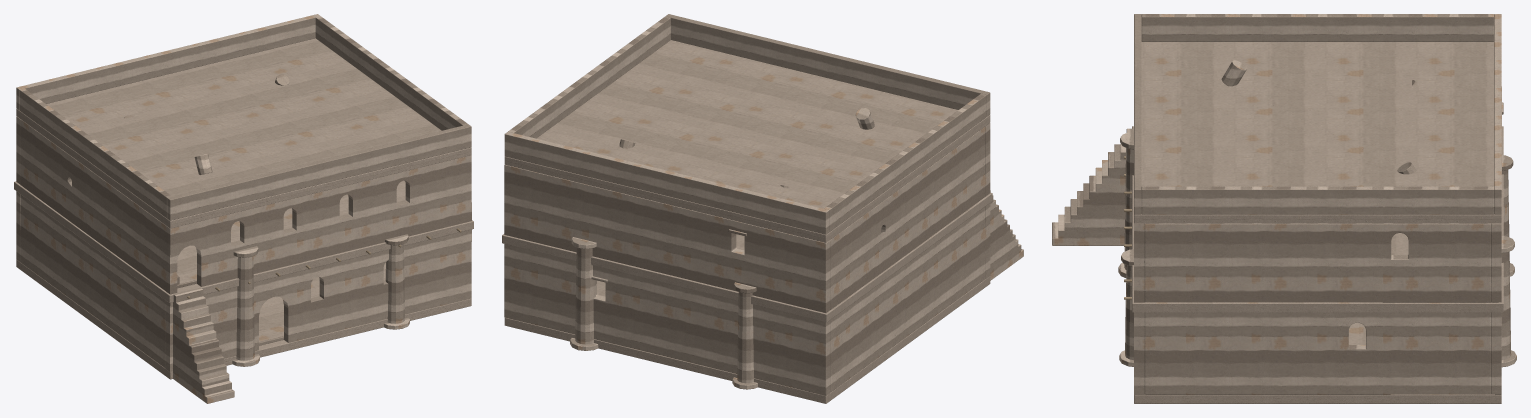
File: block_10.glb
3 views of the same model, side by side, from view 1: azimuth 30°, elevation 25°; view 2: azimuth 150°, elevation 25°; view 3: azimuth 270°, elevation 25° (orthographic). The views are drawn at different scales.
Parts seen in each view (by area): view 1: block; view 2: block; view 3: block.
Boxes of the visible parts, left/top/right/bottom form: block: left=14, top=14, right=473, bottom=403; block: left=502, top=14, right=1023, bottom=403; block: left=1052, top=14, right=1516, bottom=403.
Size of the model in its own units: 16.61 by 9.37 by 18.38.
Materials: 3 (3 with a texture image).
